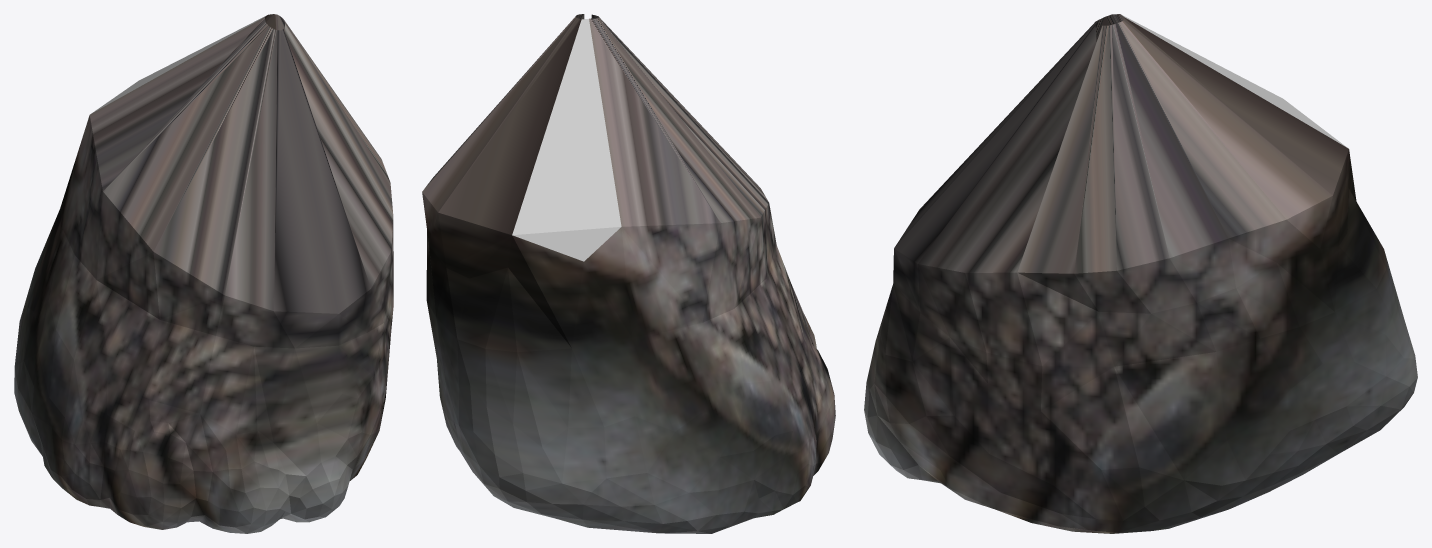
The model's file is Tortoise_LeftRearleg_new3.dae.
3 views of the same model, side by side, from view 1: azimuth 30°, elevation 25°; view 2: azimuth 150°, elevation 25°; view 3: azimuth 270°, elevation 25° (orthographic). The views are drawn at different scales.
Visible parts, largest first — view 1: tortoise_004; view 2: tortoise_004; view 3: tortoise_004.
Part boxes in pixels (bbox=[...]): tortoise_004: bbox=[14, 14, 393, 533]; tortoise_004: bbox=[422, 14, 835, 533]; tortoise_004: bbox=[864, 14, 1417, 533].
Size of the model in its own units: 2.87 by 3.75 by 3.71.
Materials: 2 (1 with a texture image).
